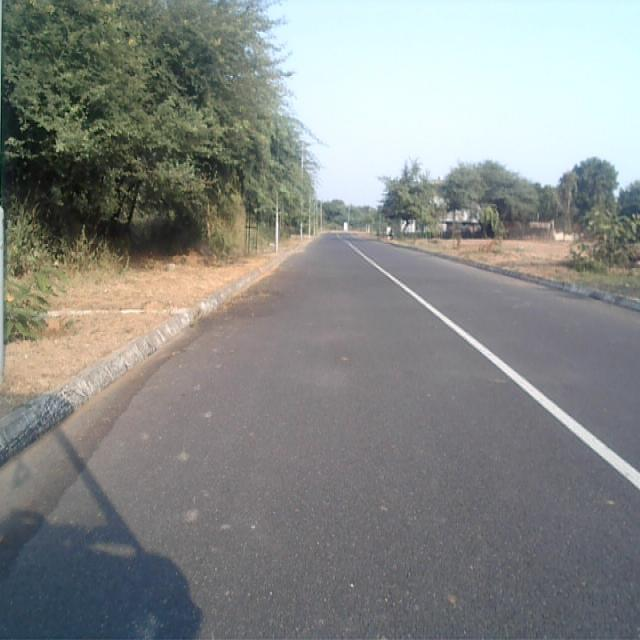lane: (0, 234, 640, 640)
